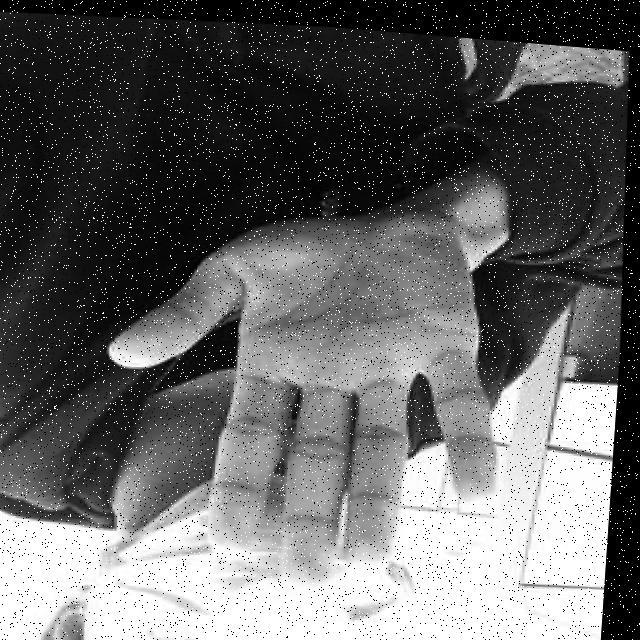no-gloves: (97, 179, 521, 608)
